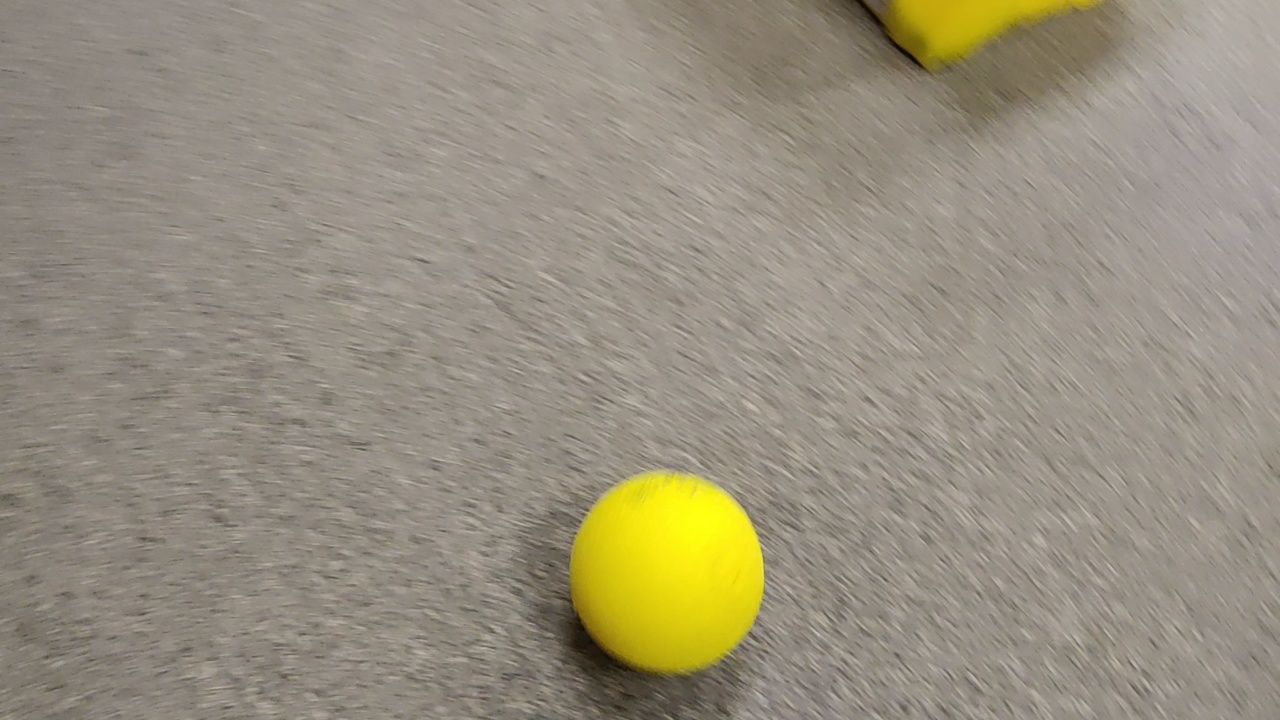Ball: (570, 469, 764, 674)
